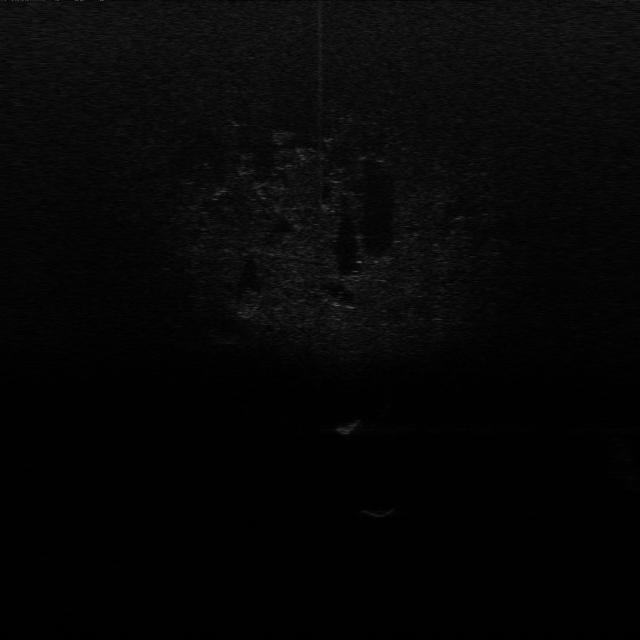cube: (363, 495, 402, 522)
square cage: (326, 409, 370, 439)
